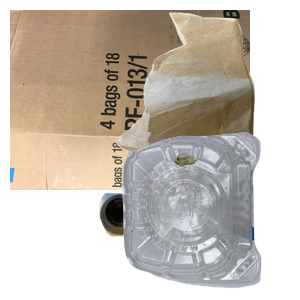cardboard: (10, 10, 250, 190)
glass: (96, 190, 230, 300)
plastic: (119, 130, 300, 300)
trash: (114, 10, 300, 189)
